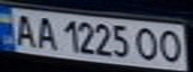1: (57, 17, 81, 53)
2: (93, 20, 115, 57), (75, 18, 96, 55)
5: (112, 21, 136, 60)
A: (9, 11, 39, 47), (30, 13, 57, 51)
O: (133, 25, 163, 62), (157, 28, 187, 64)
